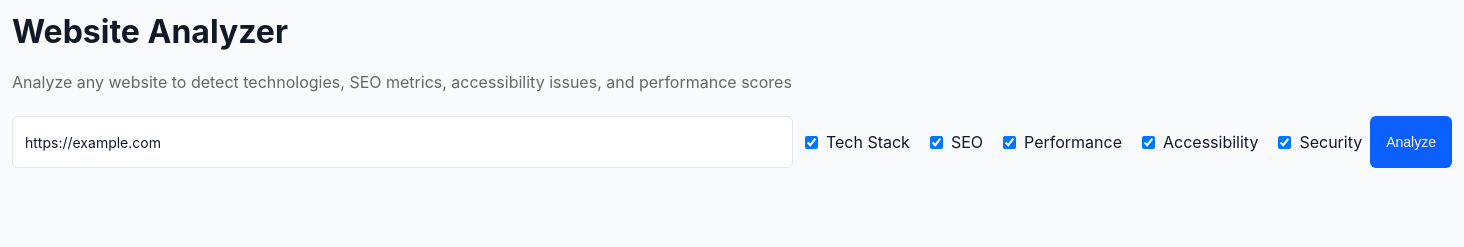
Scenario: Analyze page - render, error, loading › shows error when analyzeUrl rejects
Type "https://does-not-matter" into the field at (402, 142), box [12,116,793,168]
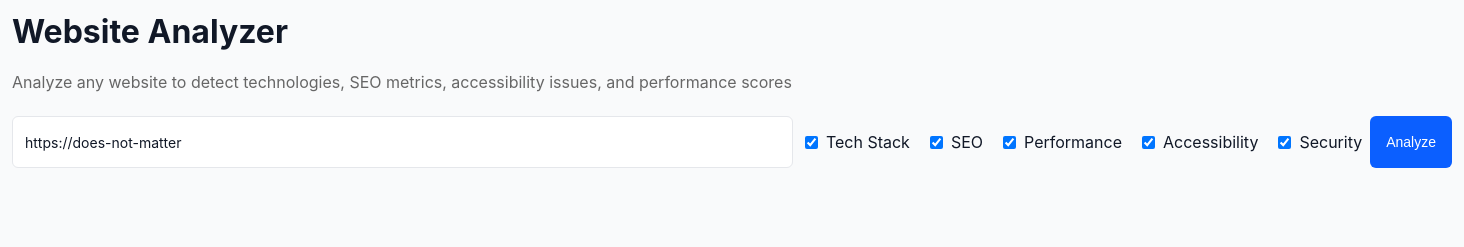
Click the button "Analyze" at (1411, 142), box [1370,116,1452,168]
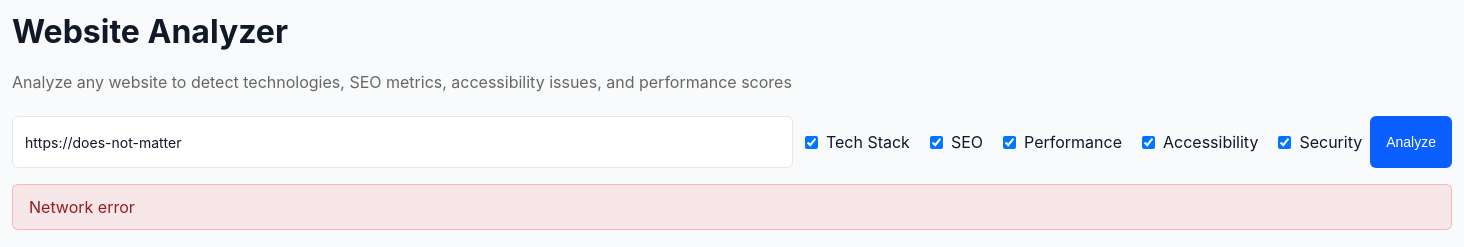
Expected: the text "Network error" is shown, [12,184,1452,230]
